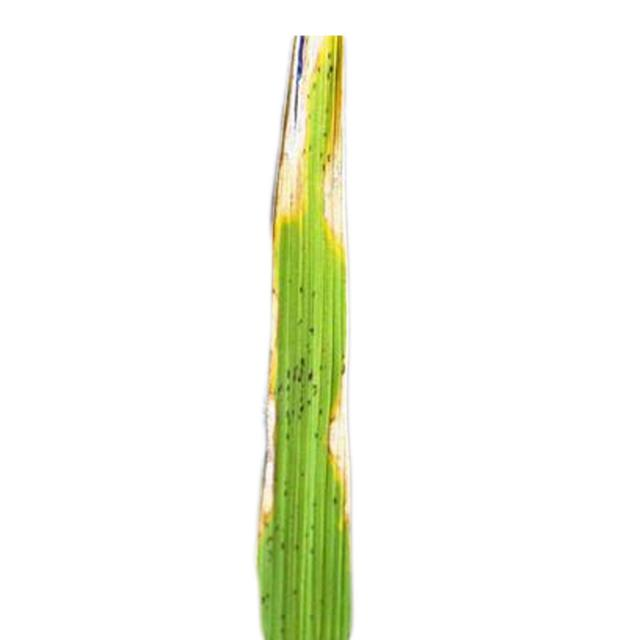Leaf scald: (238, 26, 434, 627)
